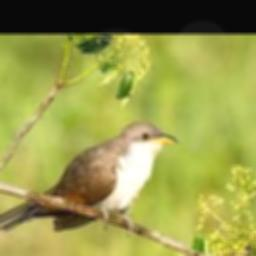Cuckoo: (0, 121, 179, 230)
